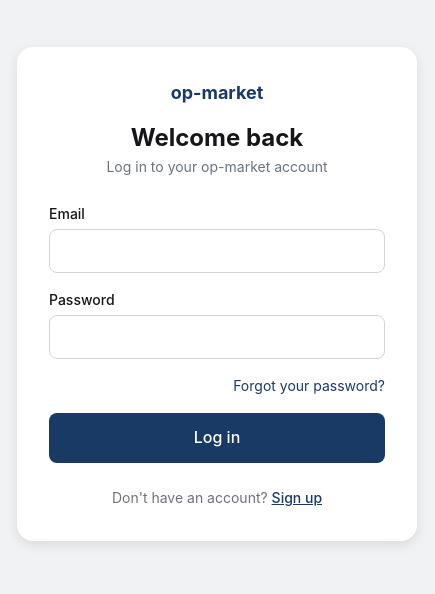
LoginPage › shows a general error banner when login fails with no field-specific detail
The image size is (435, 594).
In the field labelled "Email": (217, 251) [49,229,385,273], type "lahcen@test.com"
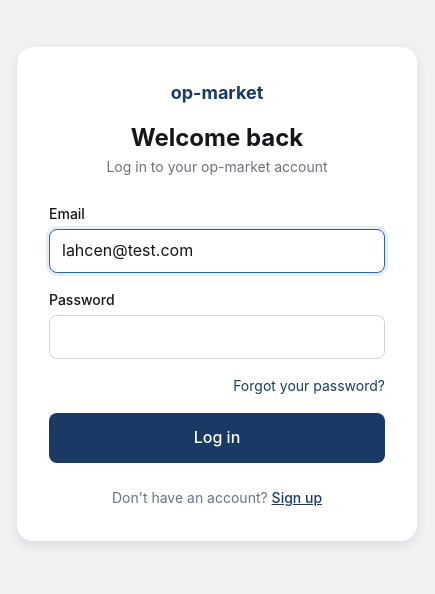
In the password field labelled "Password": (217, 337) [49,315,385,359], type "wrongpass"
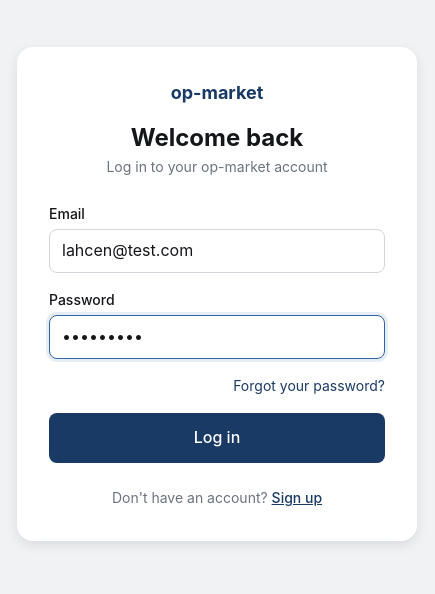
Click the button "Log in": (217, 438) [49,413,385,463]
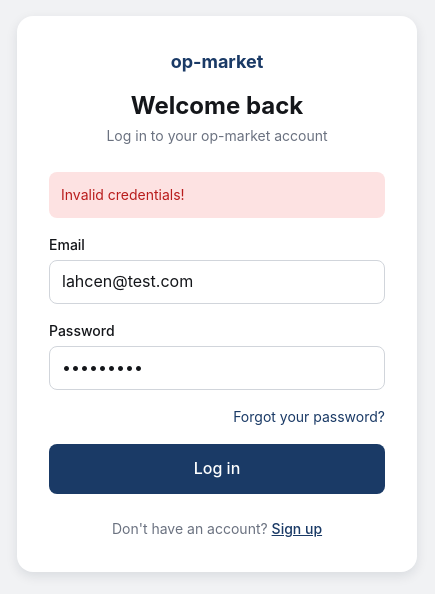
Expected: the message reads "Invalid credentials!", [61,186,185,203]
